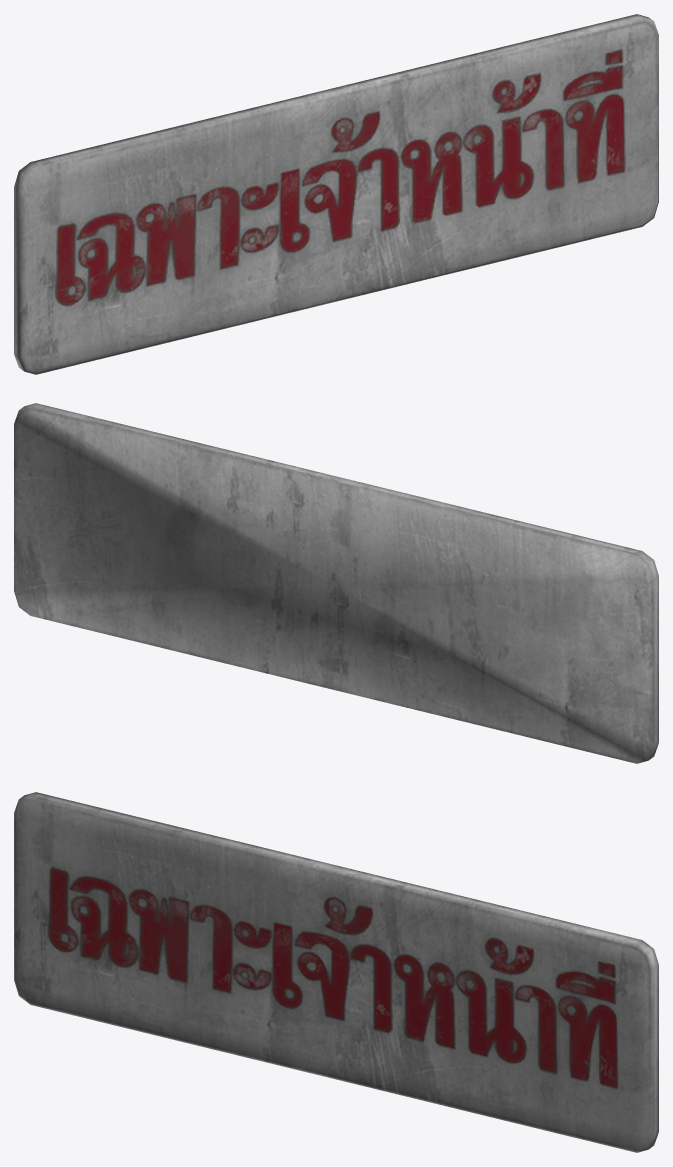
File: signStaffOnly01.FBX
The picture shows the model from 3 angles, top to bottom: view 1: azimuth 30°, elevation 25°; view 2: azimuth 150°, elevation 25°; view 3: azimuth 330°, elevation 25°; orthographic projection.
Parts seen in each view (by area): view 1: SM_SignStaffOnly01; view 2: SM_SignStaffOnly01; view 3: SM_SignStaffOnly01.
Boxes of the visible parts, x1,y1,x2,y2 form: SM_SignStaffOnly01: (14,14,658,374); SM_SignStaffOnly01: (14,403,658,763); SM_SignStaffOnly01: (14,792,658,1152).
Bounding box in the file's own units: 25.88 × 8.08 × 0.45.
1 material, 1 textured.
